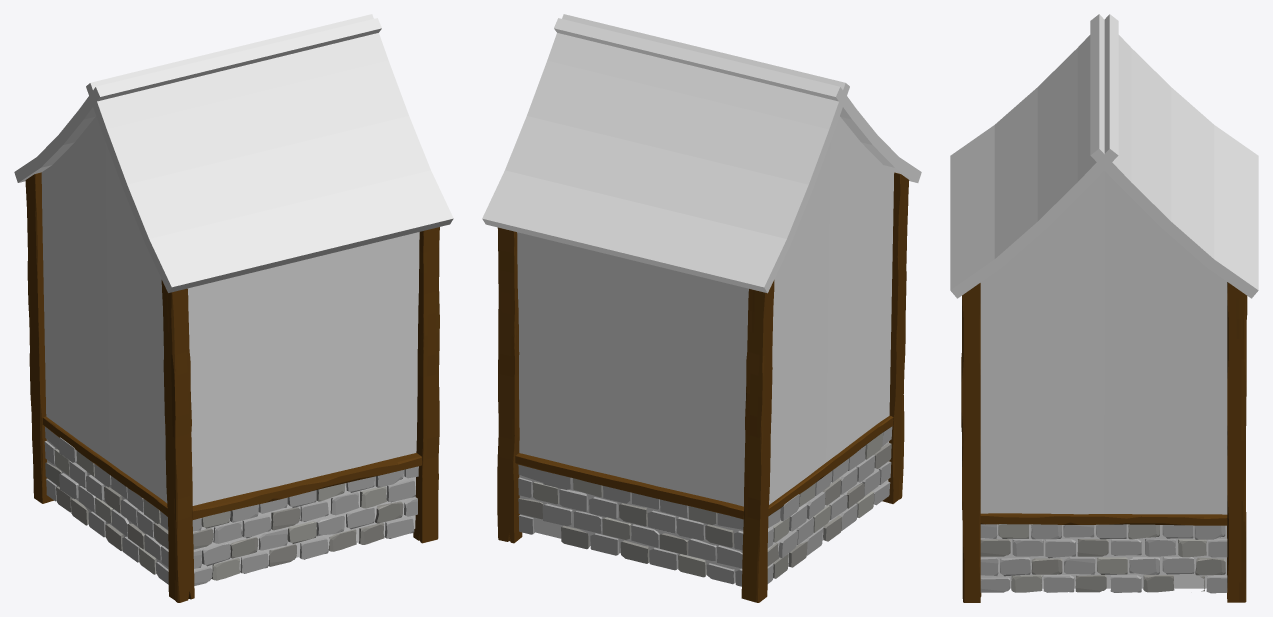
The model's file is BPW2_BackgroundHome3.fbx.
3 renders of one model, left to right at view 1: azimuth 30°, elevation 25°; view 2: azimuth 150°, elevation 25°; view 3: azimuth 270°, elevation 25°, orthographic. The views are drawn at different scales.
Visible parts, largest first — view 1: Cube.002, Plane.002, Bricks2.001, Pillar4.006, Pillar4.007; view 2: Cube.002, Plane.002, Bricks2.001, Pillar4.006, Pillar4.007; view 3: Cube.002, Plane.002, Bricks2.001, Pillar4.006, Pillar4.007.
Boxes of the visible parts, box(x1,y1,x2,y2) form: Cube.002: box(41, 116, 419, 577); Plane.002: box(14, 14, 453, 292); Bricks2.001: box(44, 426, 418, 585); Pillar4.006: box(25, 172, 439, 602); Pillar4.007: box(42, 416, 421, 519); Cube.002: box(517, 116, 894, 580); Plane.002: box(482, 14, 921, 293); Bricks2.001: box(518, 426, 892, 586); Pillar4.006: box(497, 172, 909, 602); Pillar4.007: box(515, 415, 893, 519); Cube.002: box(980, 170, 1227, 588); Plane.002: box(950, 14, 1258, 298); Bricks2.001: box(980, 524, 1227, 593); Pillar4.006: box(961, 282, 1247, 602); Pillar4.007: box(980, 513, 1227, 525).
Size of the model in its own units: 442 by 703 by 428.
